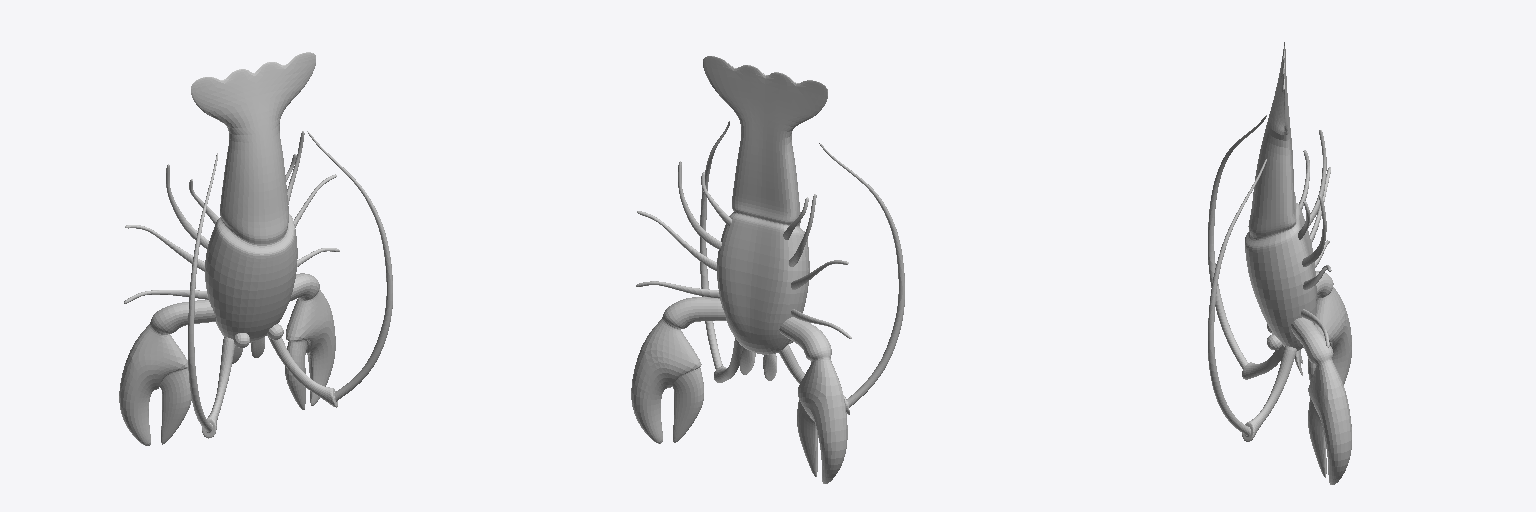
File: lobster.obj
The picture shows the model from 3 angles: view 1: azimuth 30°, elevation 25°; view 2: azimuth 150°, elevation 25°; view 3: azimuth 270°, elevation 25°; orthographic projection.
Visible parts, largest first — view 1: Lobster; view 2: Lobster; view 3: Lobster.
Boxes of the visible parts, <box> form: Lobster: <box>119,52,392,445</box>; Lobster: <box>631,56,904,483</box>; Lobster: <box>1208,42,1351,484</box>.
Size of the model in its own units: 6.46 by 10.83 by 3.75.